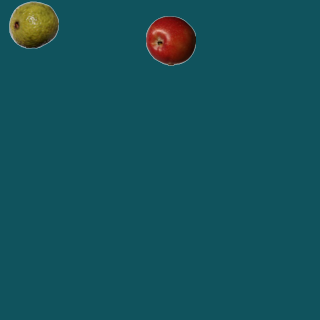Apple Braeburn: (145, 15, 195, 65)
Guava: (8, 0, 58, 49)
